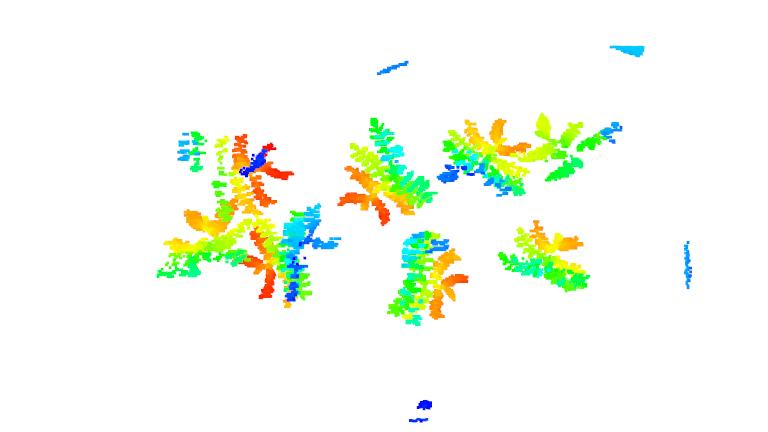chickpea: (178, 126, 295, 215), (238, 203, 338, 306), (339, 118, 437, 222), (384, 230, 468, 327), (439, 118, 531, 198), (495, 220, 597, 292), (155, 205, 246, 280), (523, 111, 607, 183)
